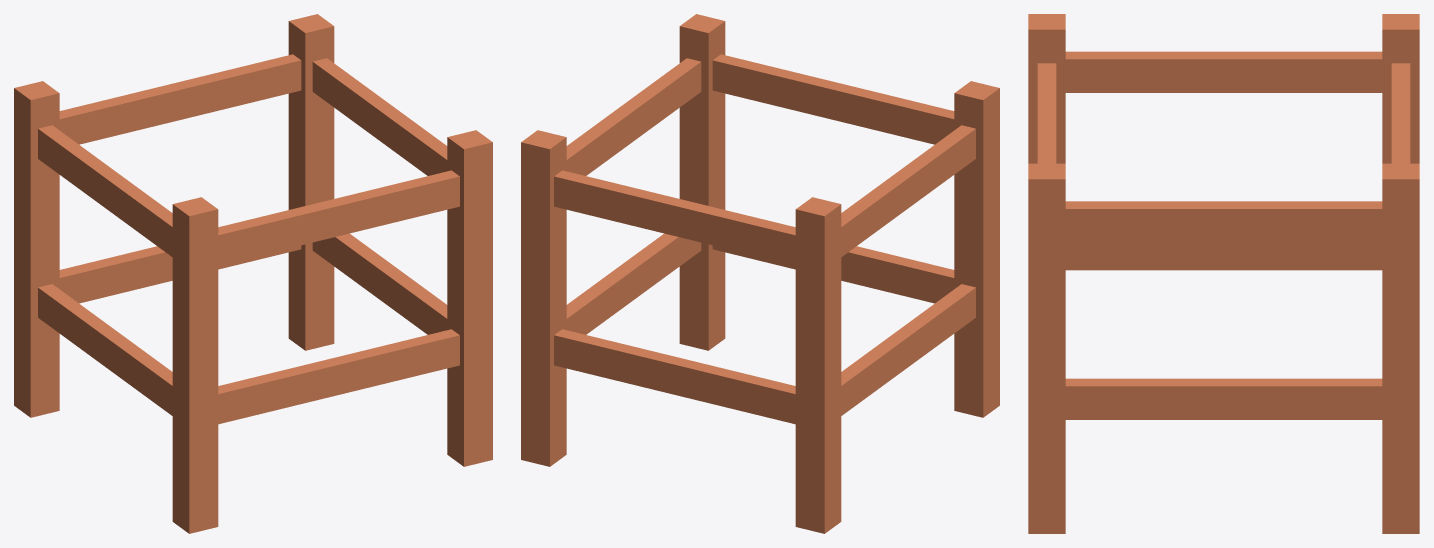
File: woodStructure_high.dae
The picture shows the model from 3 angles, left to right: view 1: azimuth 30°, elevation 25°; view 2: azimuth 150°, elevation 25°; view 3: azimuth 270°, elevation 25°; orthographic projection. The views are drawn at different scales.
Parts seen in each view (by area): view 1: woodStructure_high; view 2: woodStructure_high; view 3: woodStructure_high.
Part boxes in pixels (x1,y1,x2,y2): woodStructure_high: (14, 14, 492, 533); woodStructure_high: (521, 14, 999, 533); woodStructure_high: (1028, 14, 1419, 533).
Bounding box in the file's own units: 1 × 1 × 1.
